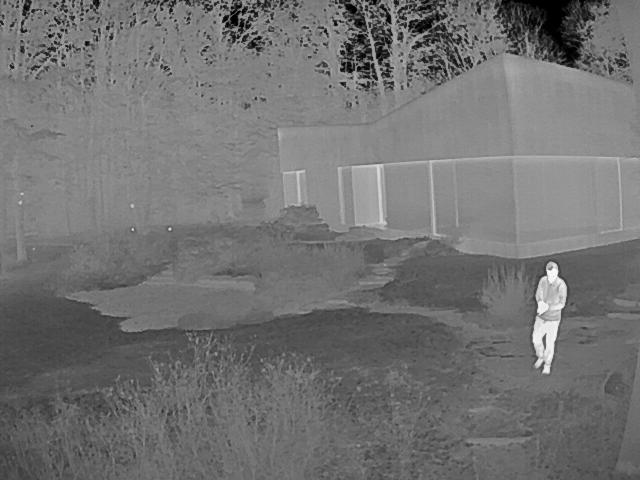person: (533, 260, 569, 373)
